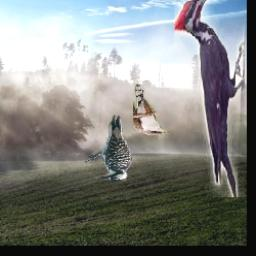Cuckoo: (132, 84, 168, 135)
Woodpecker: (173, 0, 244, 198), (83, 115, 133, 181)
